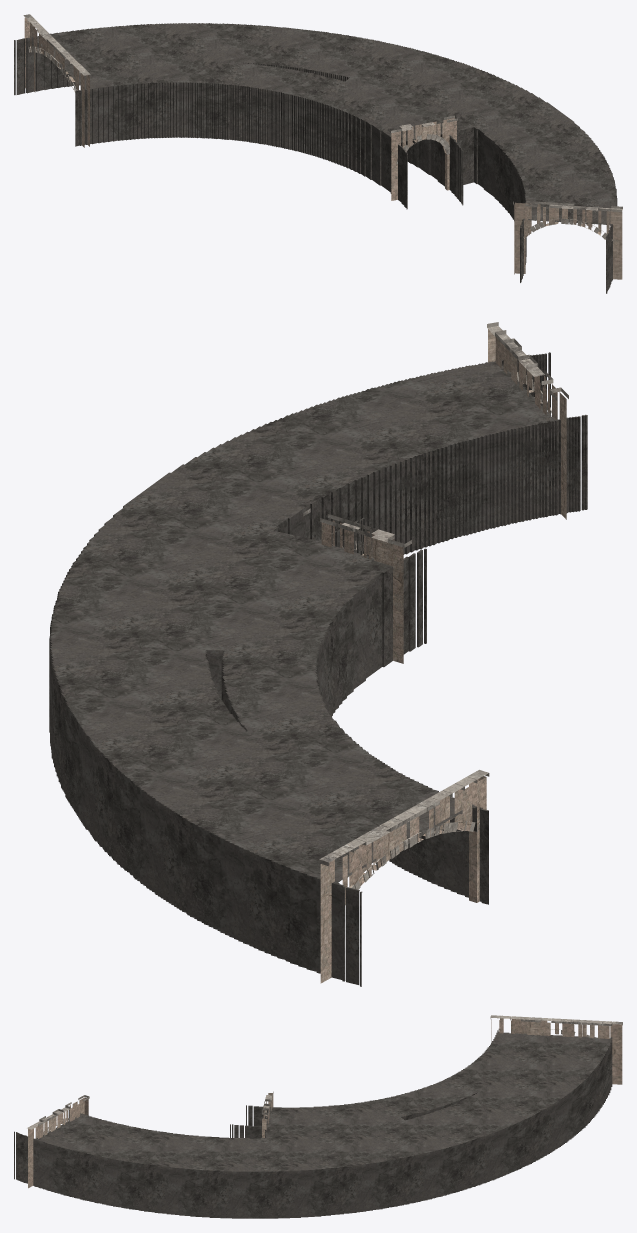
Rendered from tunnels_portals.glb.
The picture shows the model from 3 angles, top to bottom: view 1: azimuth 30°, elevation 25°; view 2: azimuth 150°, elevation 25°; view 3: azimuth 270°, elevation 25°; orthographic projection. The views are drawn at different scales.
Parts seen in each view (by area): view 1: TUNNEL_ceiling, TUNNEL_walls, TUNNEL_septum_P2_P3, PORTAL_P3, PORTAL_P1, PORTAL_P2; view 2: TUNNEL_ceiling, TUNNEL_walls, PORTAL_P1, TUNNEL_septum_P2_P3, PORTAL_P3, PORTAL_P2; view 3: TUNNEL_ceiling, TUNNEL_walls, PORTAL_P1, PORTAL_P3, TUNNEL_septum_P2_P3, PORTAL_P2.
Part boxes in pixels (<box>): TUNNEL_ceiling: <box>14,23,616,238</box>; TUNNEL_walls: <box>14,38,617,293</box>; TUNNEL_septum_P2_P3: <box>345,77,474,186</box>; PORTAL_P3: <box>513,201,622,279</box>; PORTAL_P1: <box>23,14,90,147</box>; PORTAL_P2: <box>388,115,457,200</box>; TUNNEL_ceiling: <box>50,352,586,892</box>; TUNNEL_walls: <box>49,353,587,986</box>; PORTAL_P1: <box>319,769,489,983</box>; TUNNEL_septum_P2_P3: <box>204,530,318,698</box>; PORTAL_P3: <box>487,322,568,519</box>; PORTAL_P2: <box>303,508,411,663</box>; TUNNEL_ceiling: <box>14,1029,612,1171</box>; TUNNEL_walls: <box>14,1040,612,1218</box>; PORTAL_P1: <box>490,1015,622,1084</box>; PORTAL_P3: <box>27,1095,89,1188</box>; TUNNEL_septum_P2_P3: <box>265,1116,404,1138</box>; PORTAL_P2: <box>262,1091,273,1137</box>.
Size of the model in its own units: 0.315 by 0.064 by 0.5668.
4 materials, 4 textured.
